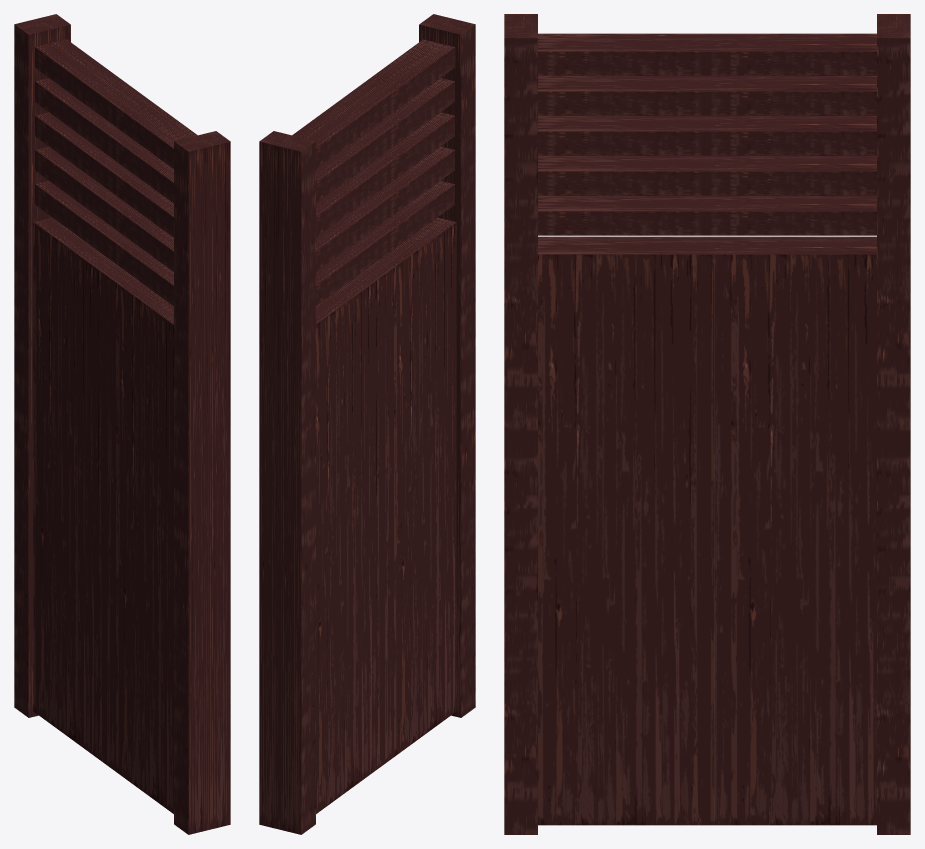
The model's file is fence-gate.fbx.
3 views of the same model, side by side, from view 1: azimuth 30°, elevation 25°; view 2: azimuth 150°, elevation 25°; view 3: azimuth 270°, elevation 25° (orthographic). The views are drawn at different scales.
Parts seen in each view (by area): view 1: Box007; view 2: Box007; view 3: Box007.
Part boxes in pixels (x1,y1,x2,y2): Box007: (14,14,230,834); Box007: (259,14,475,834); Box007: (504,14,910,834).
Size of the model in its own units: 4.24 by 65.57 by 30.31.
